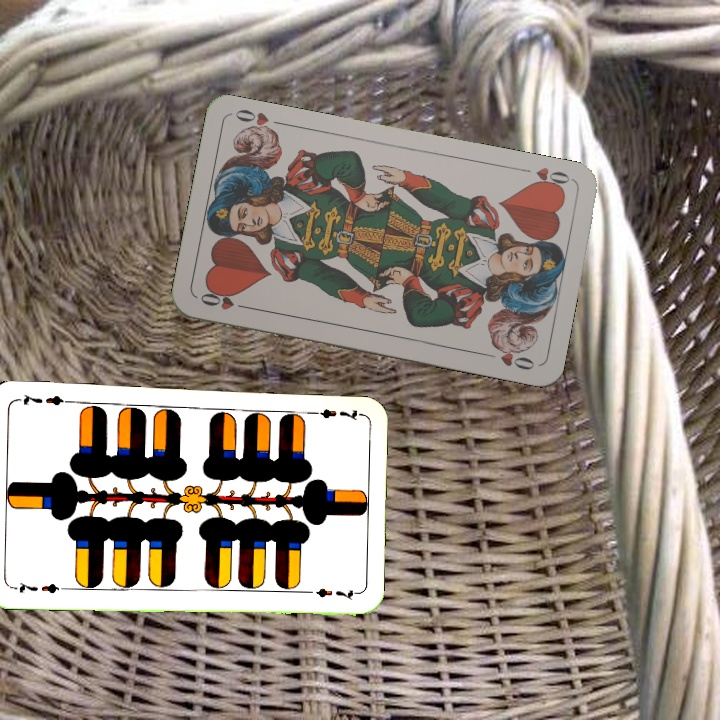E7: (8, 578, 68, 597), (302, 405, 361, 422)
HO: (196, 287, 254, 313), (525, 163, 573, 194)
